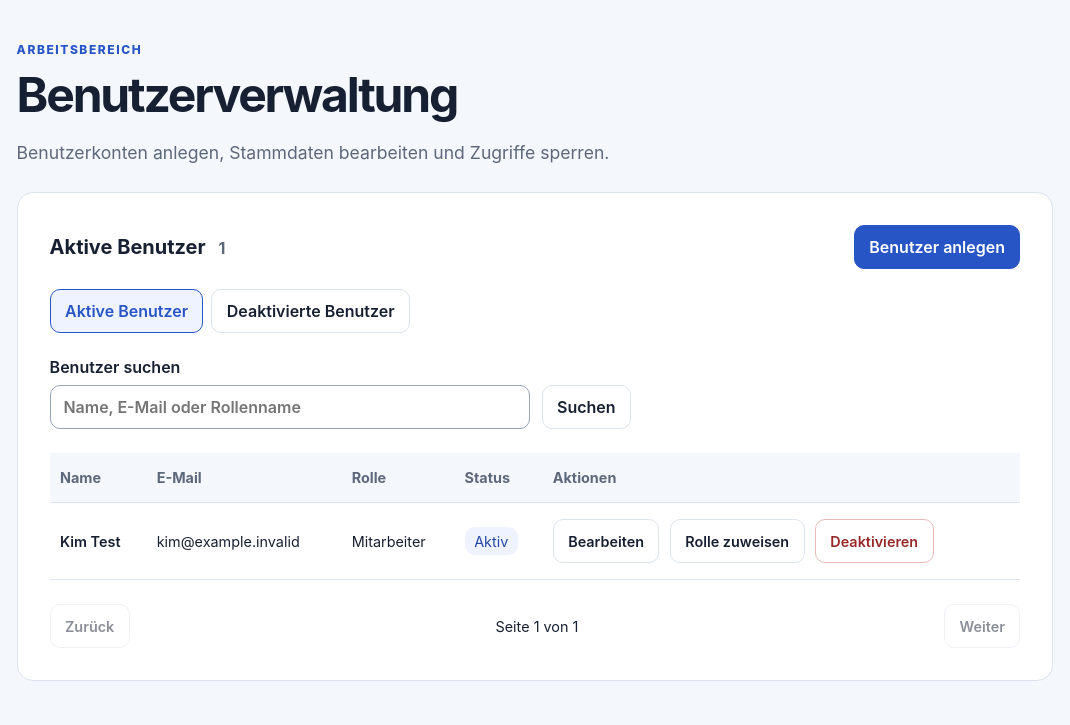
Test case: Benutzerverwaltung › legt Benutzer mit initialem Passwort an und entfernt anschließend das Passwortfeld
Expected: the text "kim@example.invalid" is shown, 146,503 -> 341,580
Click the button "Benutzer anlegen". click: (937, 247)
box: 854,225 -> 1020,269
(page scrolled)
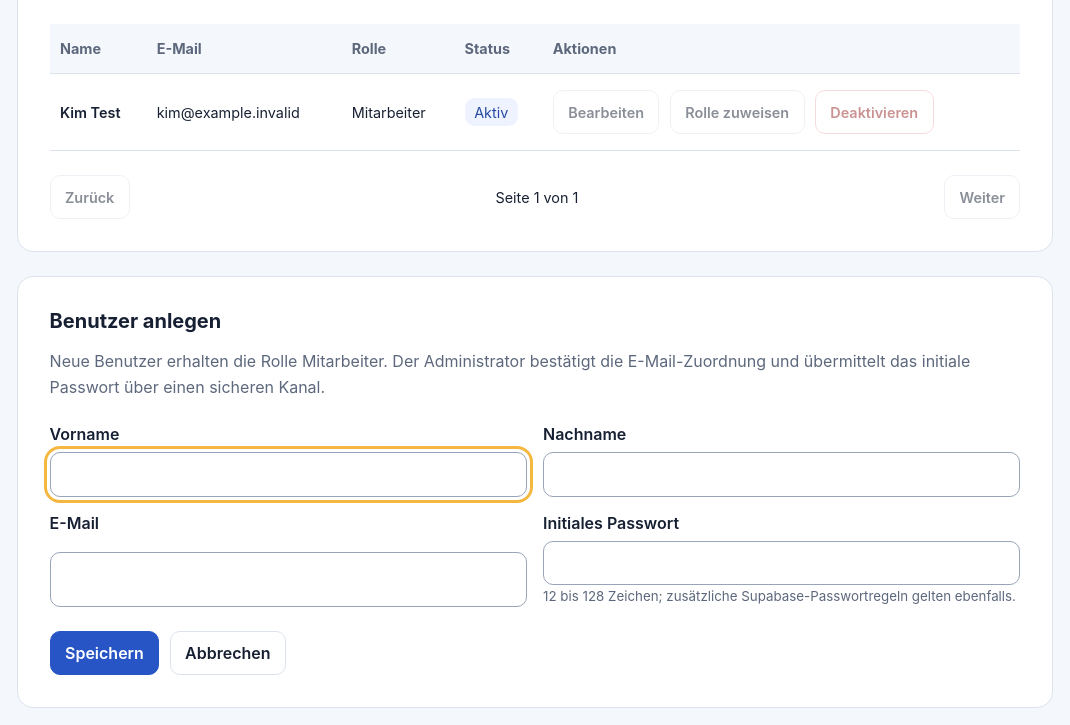
Type "Robin" into the field labelled "Vorname". click: (288, 474)
box: 50,452 -> 527,497
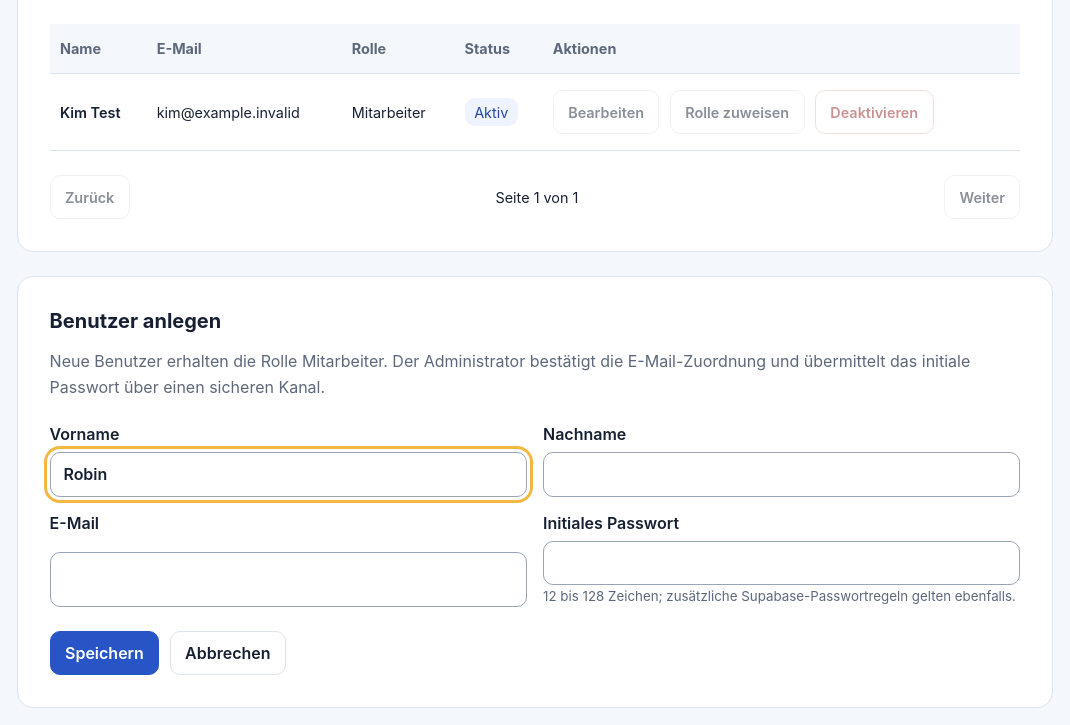
Type "Neu" into the field labelled "Nachname". click: (782, 474)
box: 543,452 -> 1020,497
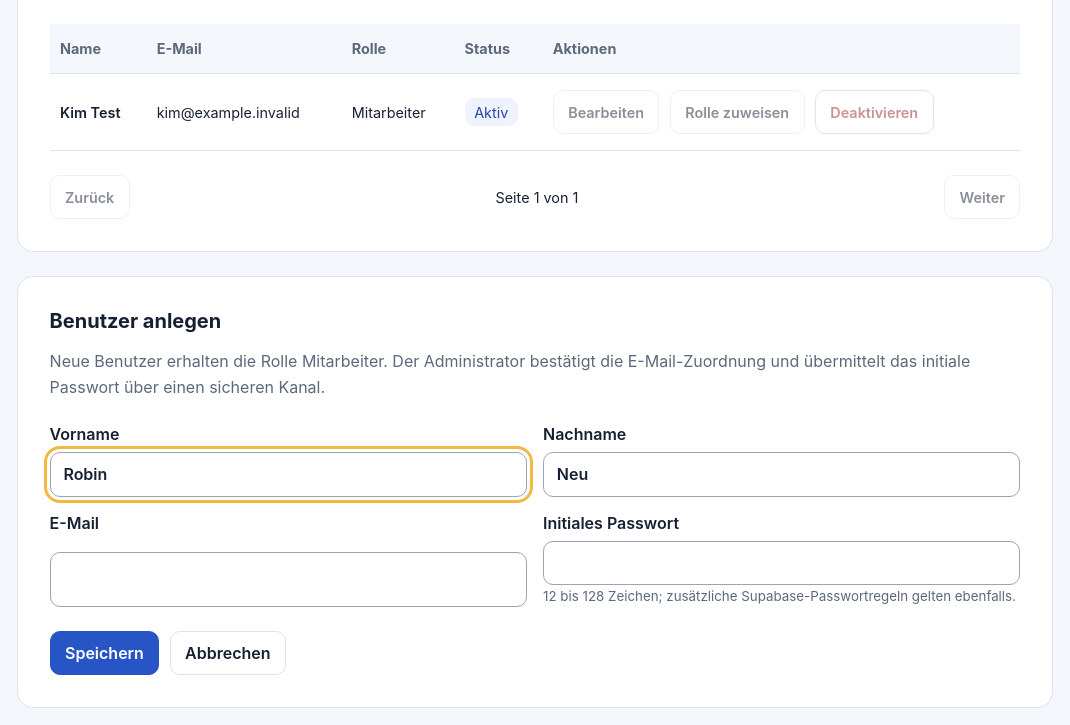
Type "robin@example.invalid" into the field labelled "E-Mail". click: (288, 580)
box: 50,552 -> 527,607
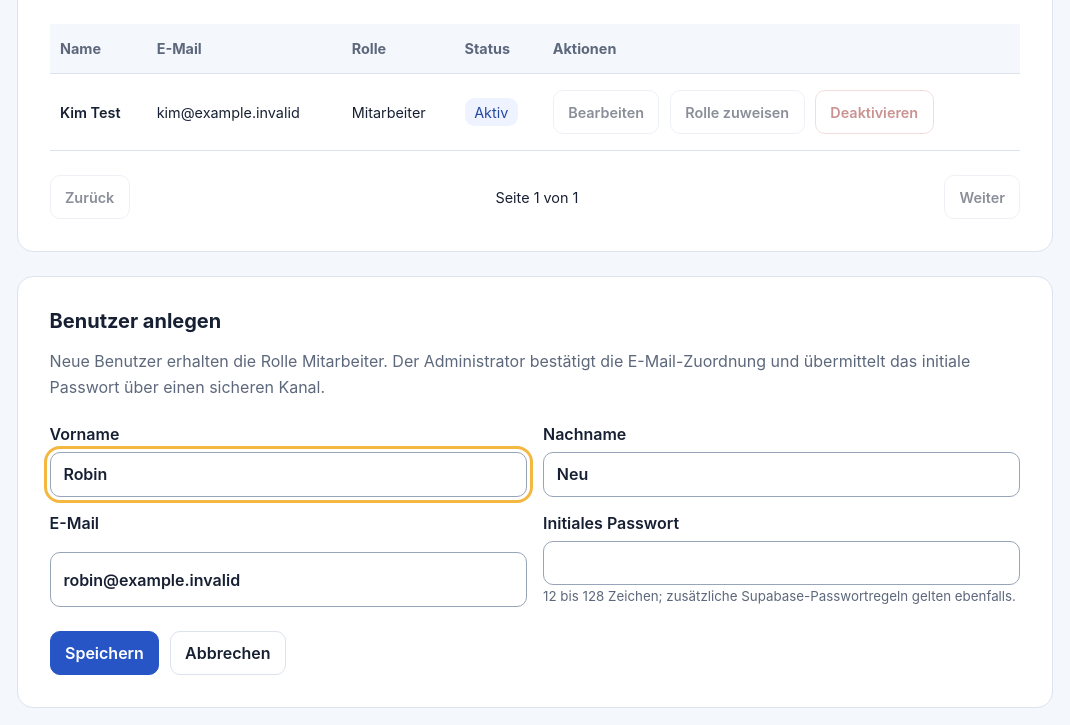
Type "a-long-initial-password" into the password field labelled "Initiales Passwort". click: (782, 563)
box: 543,541 -> 1020,585
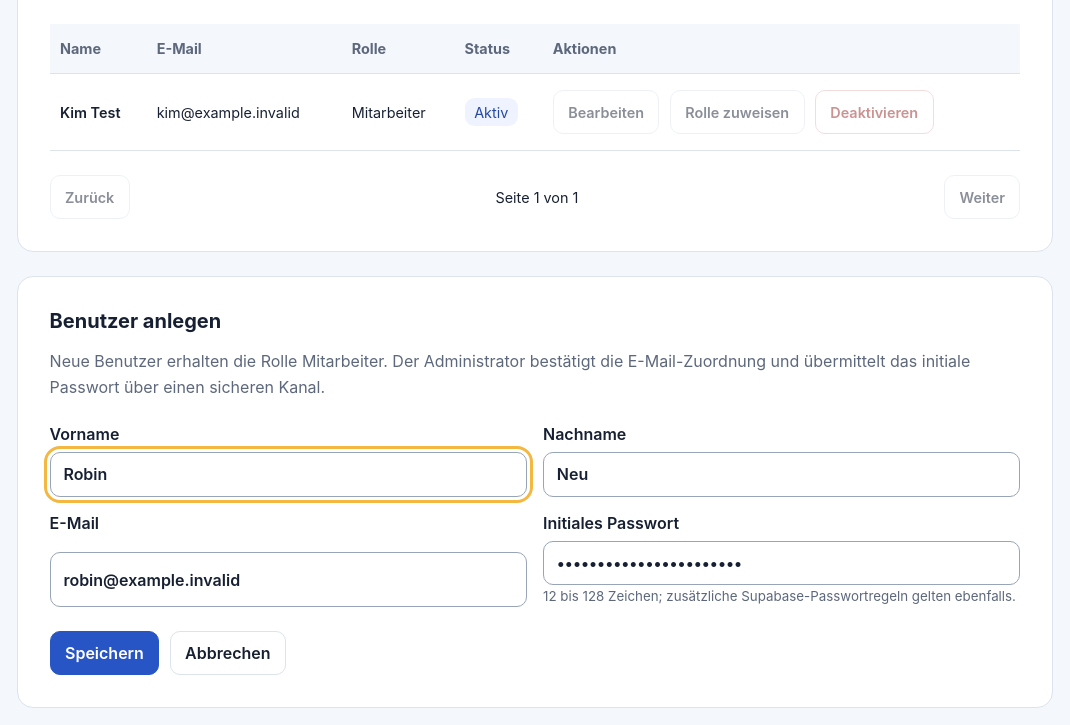
Click the button "Speichern". click: (104, 653)
box: 50,631 -> 159,675
(page scrolled)
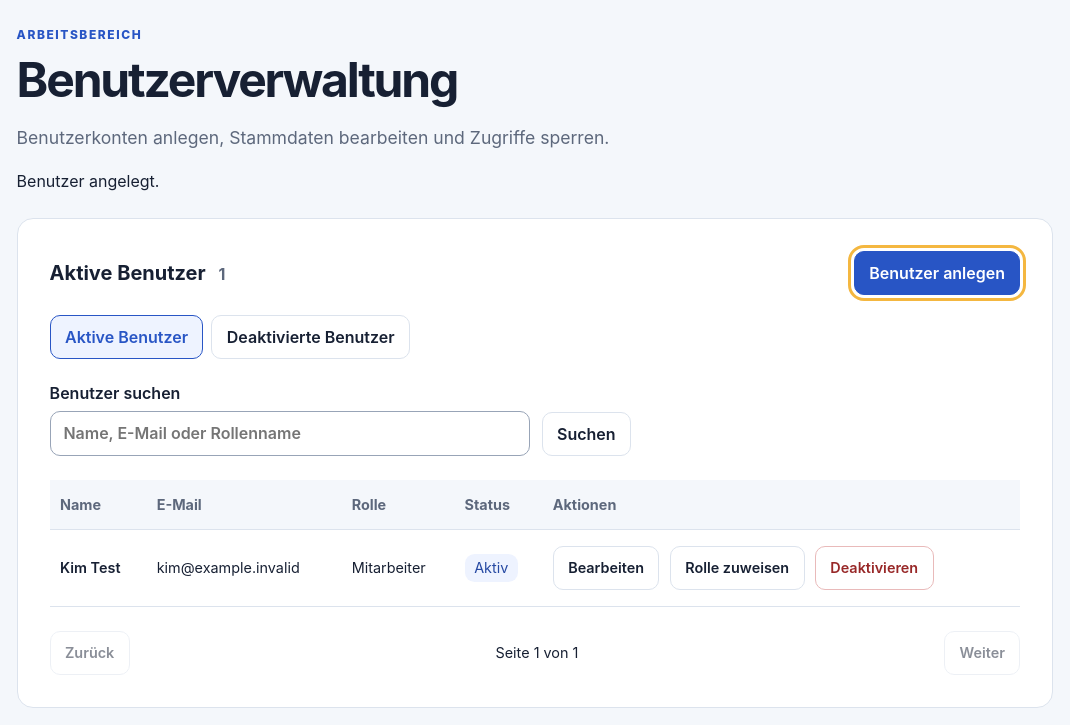
Expected: the text "Benutzer angelegt." is shown, 17,171 -> 159,191
Expected: the label labelled "Initiales Passwort" is gone
